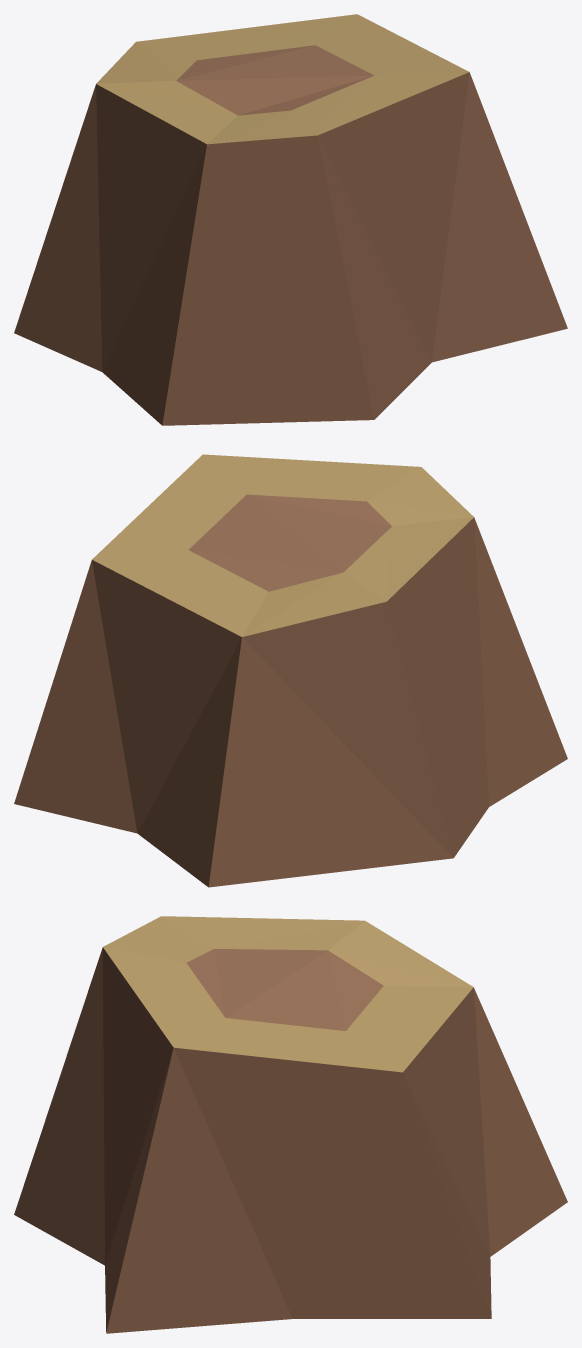
The model's file is TB_Env_Trunk_C.FBX.
3 renders of one model, top to bottom at view 1: azimuth 30°, elevation 25°; view 2: azimuth 150°, elevation 25°; view 3: azimuth 270°, elevation 25°, orthographic. The views are drawn at different scales.
Parts seen in each view (by area): view 1: TB_Env_Trunk_C; view 2: TB_Env_Trunk_C; view 3: TB_Env_Trunk_C.
Part boxes in pixels (x1,y1,x2,y2): TB_Env_Trunk_C: [14, 14, 567, 425]; TB_Env_Trunk_C: [14, 454, 567, 887]; TB_Env_Trunk_C: [14, 916, 567, 1333].
Size of the model in its own units: 0.854 by 0.4971 by 0.9552.
